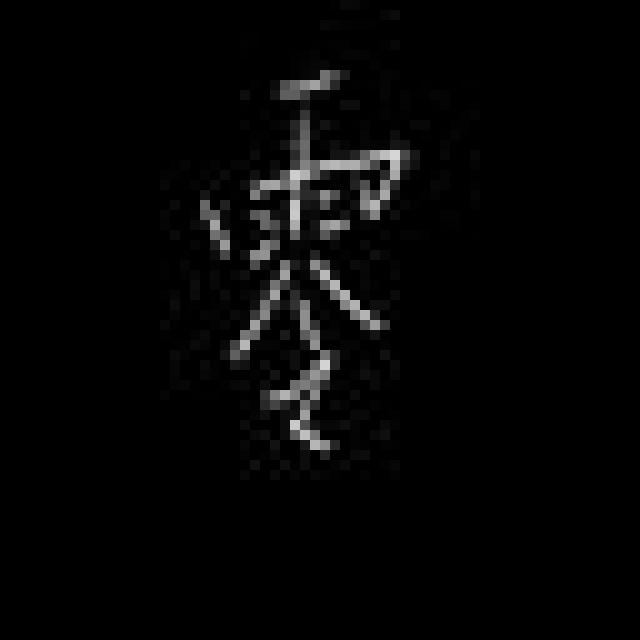0 -zero-: (186, 59, 417, 459)
